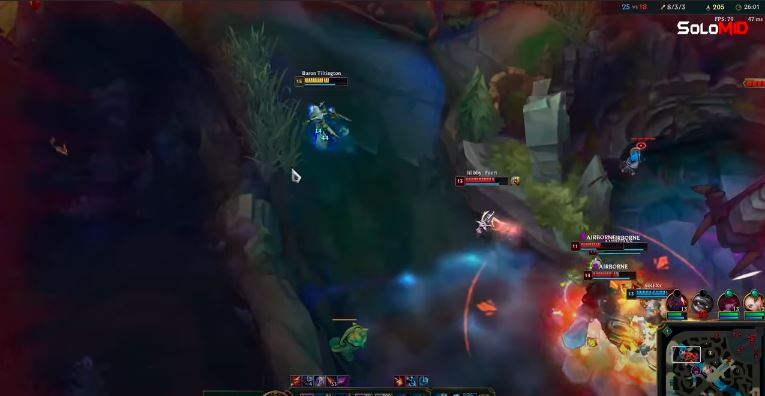bar: (454, 173, 513, 189), (624, 285, 683, 301), (291, 74, 351, 89), (591, 240, 653, 252), (583, 269, 638, 281), (570, 241, 628, 252)
